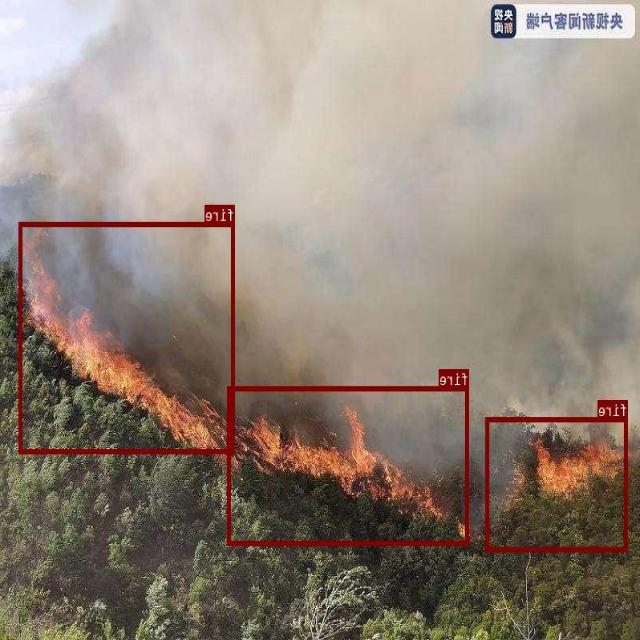fire: (19, 222, 236, 452), (228, 385, 470, 545), (486, 417, 629, 551)
